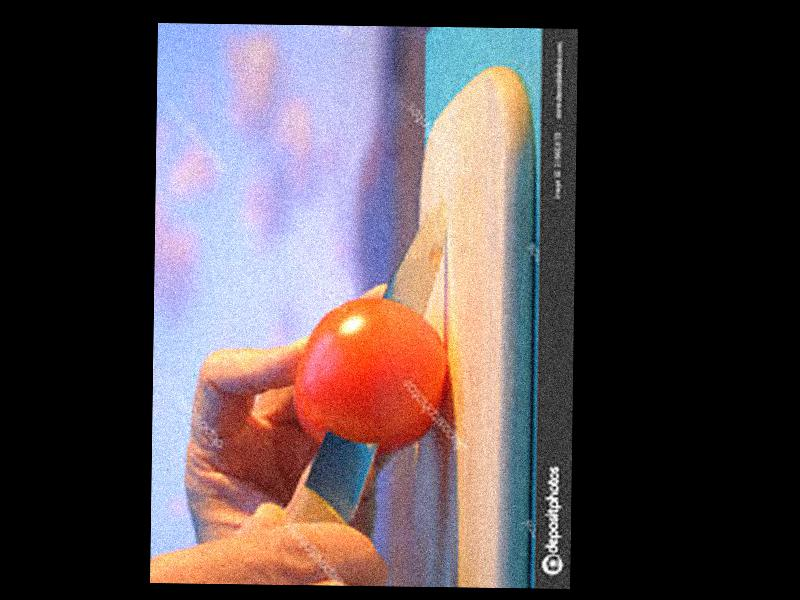Tomato: (295, 295, 451, 454)
